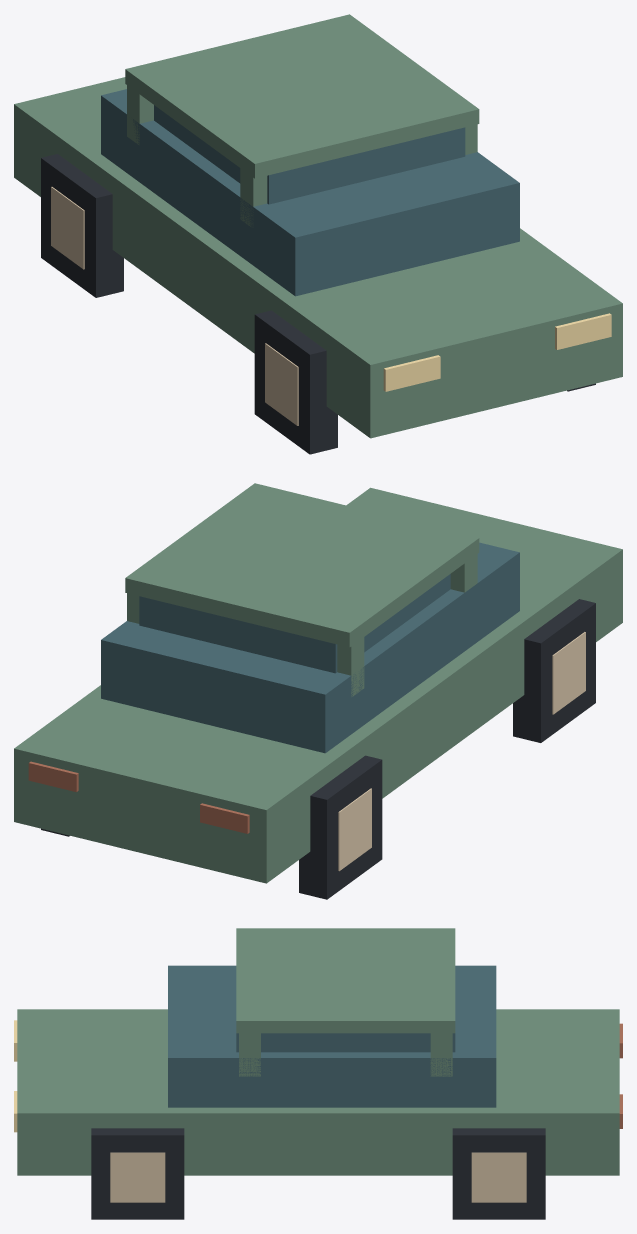
File: car-voxel.glb
3 renders of one model, top to bottom at view 1: azimuth 30°, elevation 25°; view 2: azimuth 150°, elevation 25°; view 3: azimuth 270°, elevation 25°, orthographic. The views are drawn at different scales.
Parts seen in each view (by area): view 1: car-voxel; view 2: car-voxel; view 3: car-voxel.
Boxes of the visible parts, <box> form: car-voxel: <box>14,14,622,454</box>; car-voxel: <box>14,483,622,899</box>; car-voxel: <box>14,928,622,1219</box>.
Bounding box in the file's own units: 2.06 × 1.5 × 4.45.
